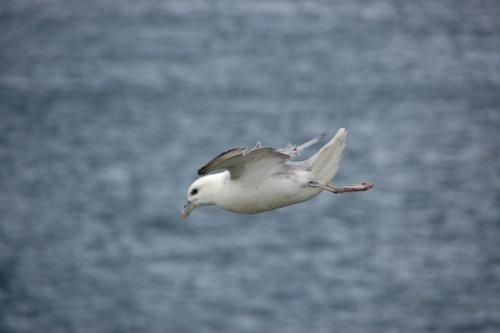bird: (180, 127, 372, 221)
